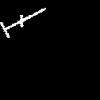double_crochet: (0, 8, 45, 37)
